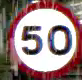Speed limit: (8, 0, 81, 78)
